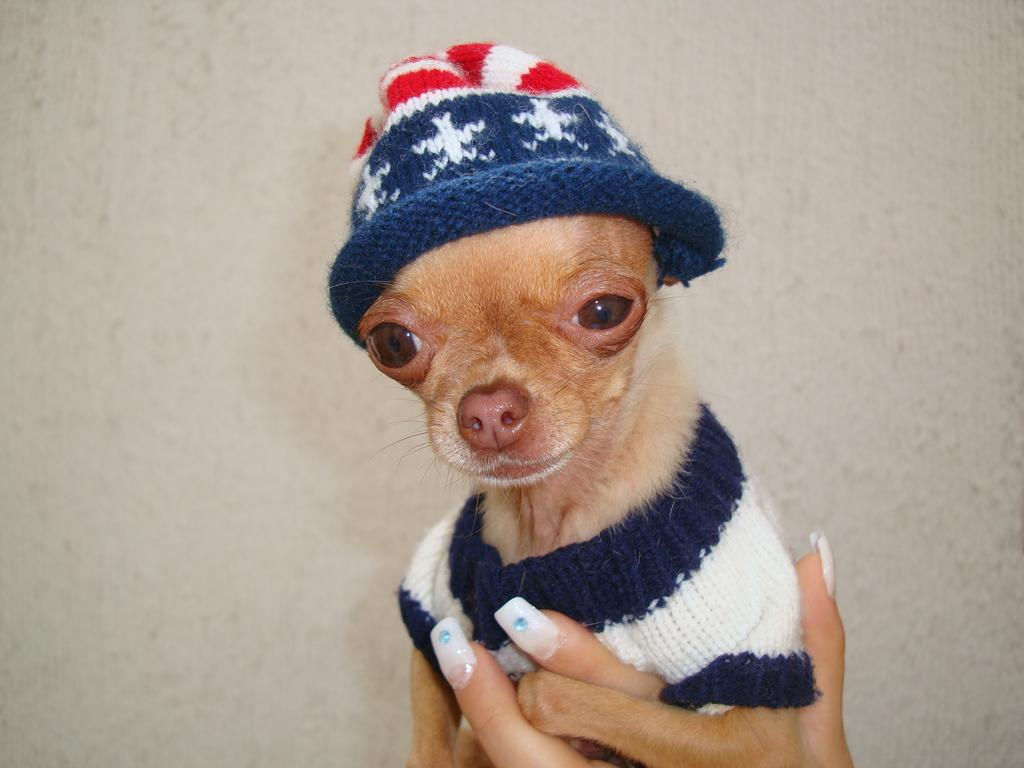Hat: (324, 38, 726, 345)
